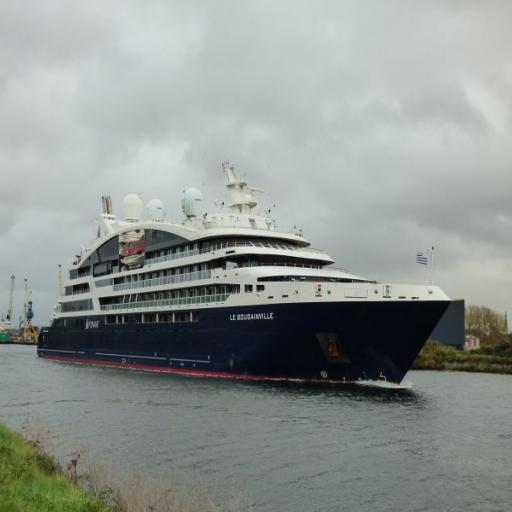cruises: (36, 160, 460, 402)
